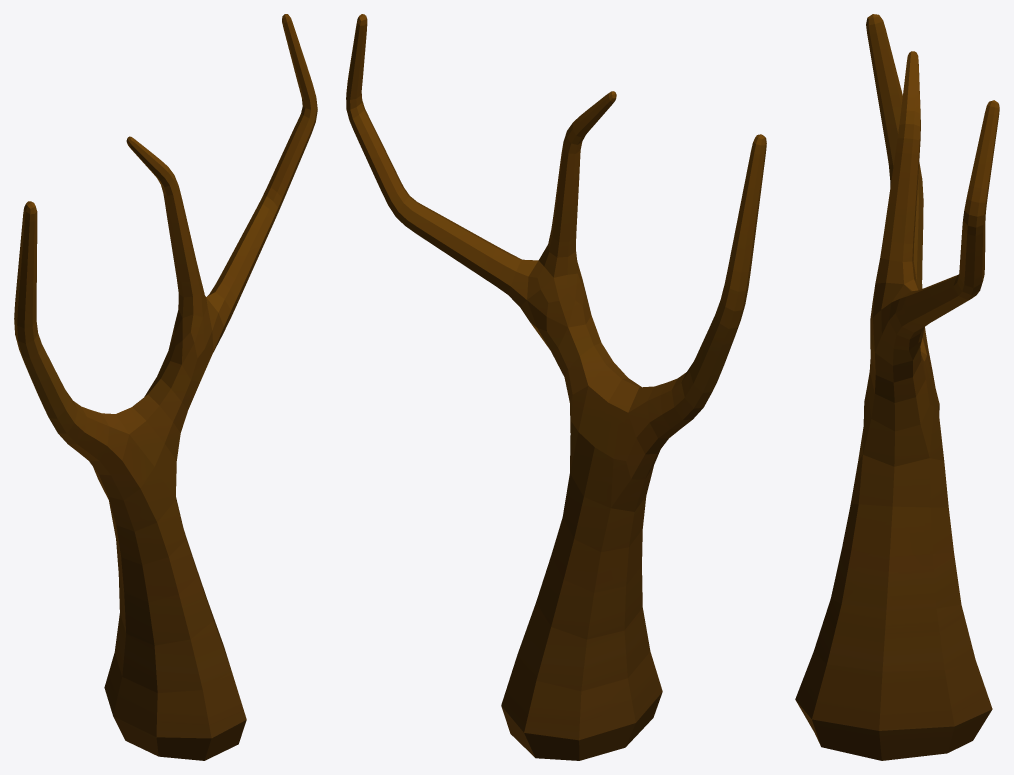
File: arbol8.fbx
The picture shows the model from 3 angles, left to right: view 1: azimuth 30°, elevation 25°; view 2: azimuth 150°, elevation 25°; view 3: azimuth 270°, elevation 25°; orthographic projection. The views are drawn at different scales.
Visible parts, largest first — view 1: Plane.001; view 2: Plane.001; view 3: Plane.001.
Part boxes in pixels (x1=…): Plane.001: x1=14, y1=14, x2=317, y2=760; Plane.001: x1=346, y1=14, x2=766, y2=760; Plane.001: x1=795, y1=14, x2=999, y2=760.
Bounding box in the file's own units: 213 × 399 × 101.
